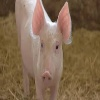heo: (30, 1, 74, 86)
